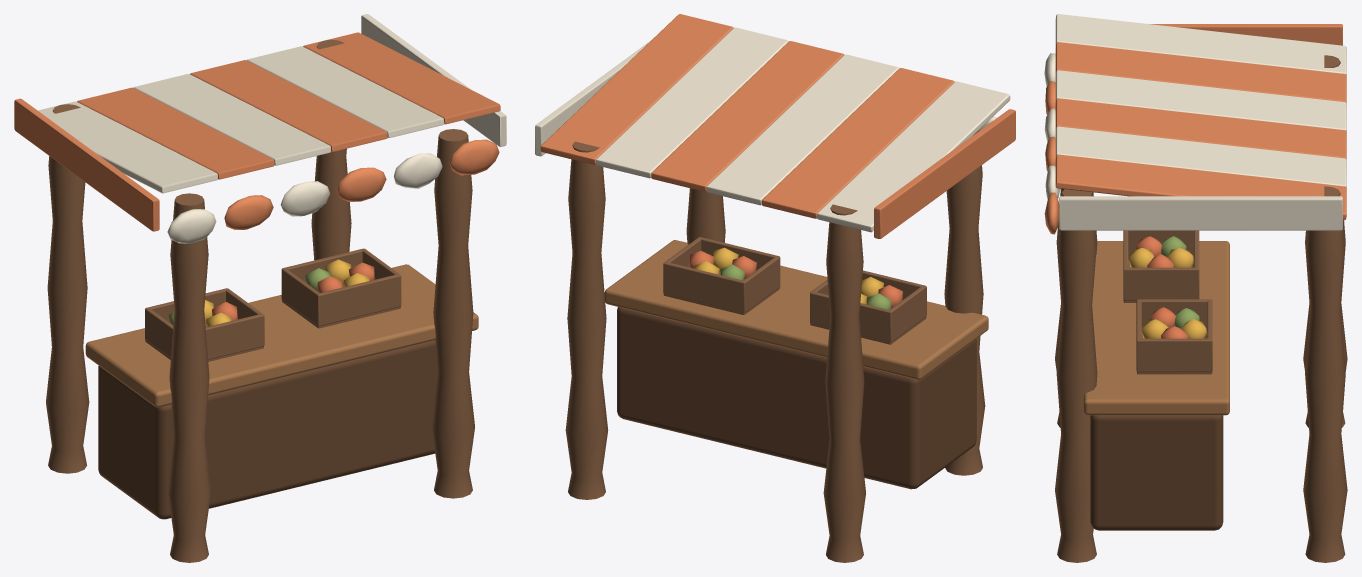
File: market_stall.glb
The picture shows the model from 3 angles, left to right: view 1: azimuth 30°, elevation 25°; view 2: azimuth 150°, elevation 25°; view 3: azimuth 270°, elevation 25°; orthographic projection. The views are drawn at different scales.
Parts seen in each view (by area): view 1: market_stall; view 2: market_stall; view 3: market_stall.
Part boxes in pixels (box(x1,y1,x2,y2)): market_stall: box(14, 14, 506, 562); market_stall: box(535, 14, 1015, 562); market_stall: box(1044, 14, 1347, 562).
Bounding box in the file's own units: 0.92 × 0.9529 × 0.669.
